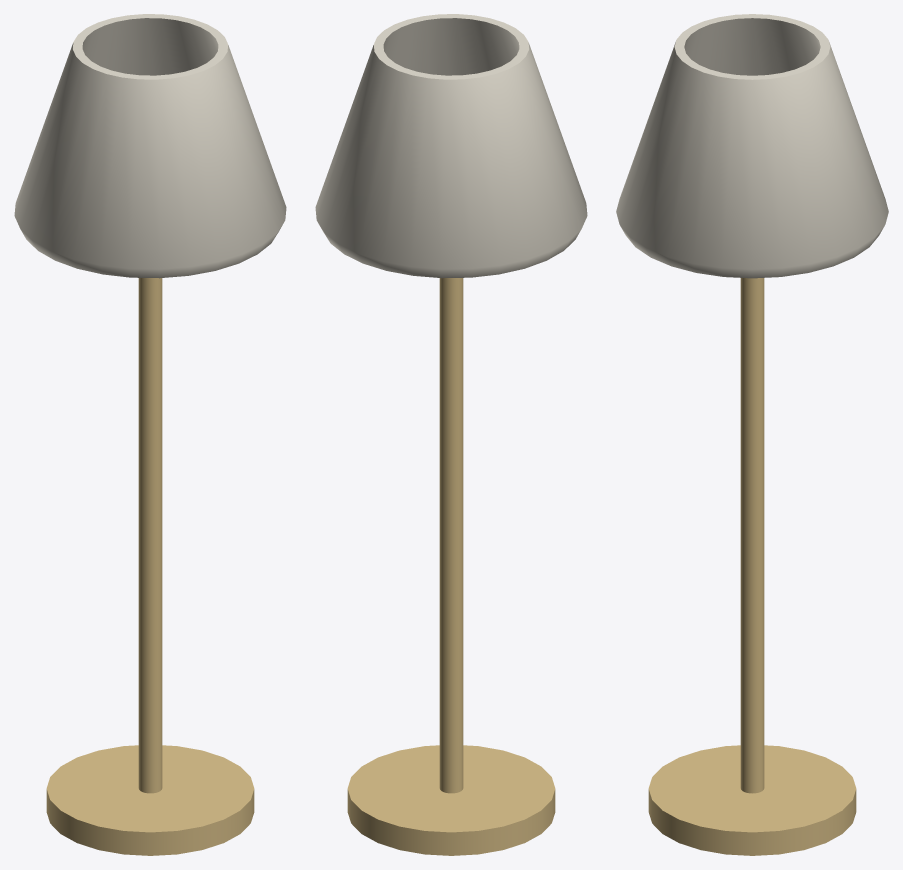
File: paranormal-investigation-house-floor-lamp-495b2a8f__26746.glb
The picture shows the model from 3 angles, left to right: view 1: azimuth 30°, elevation 25°; view 2: azimuth 150°, elevation 25°; view 3: azimuth 270°, elevation 25°; orthographic projection.
Parts seen in each view (by area): view 1: floor-lamp; view 2: floor-lamp; view 3: floor-lamp.
Boxes of the visible parts, x1=… form: floor-lamp: x1=14, y1=14, x2=286, y2=855; floor-lamp: x1=315, y1=14, x2=587, y2=855; floor-lamp: x1=616, y1=14, x2=888, y2=855.
Bounding box in the file's own units: 0.42 × 1.3 × 0.42.
